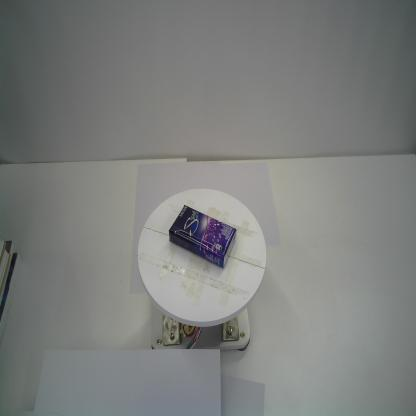Gum: (168, 204, 236, 269)
